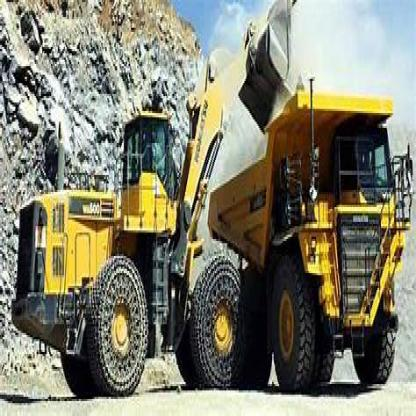bull_dozer/loader/grader: (7, 2, 294, 399)
